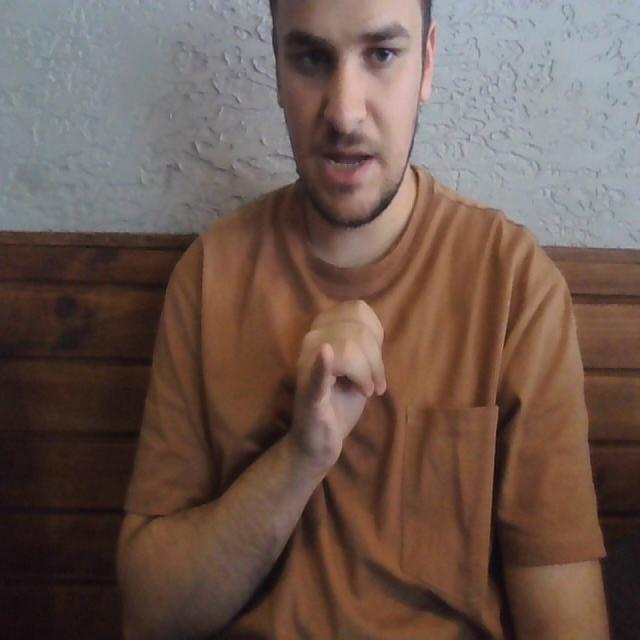kotu: (283, 292, 395, 467)
